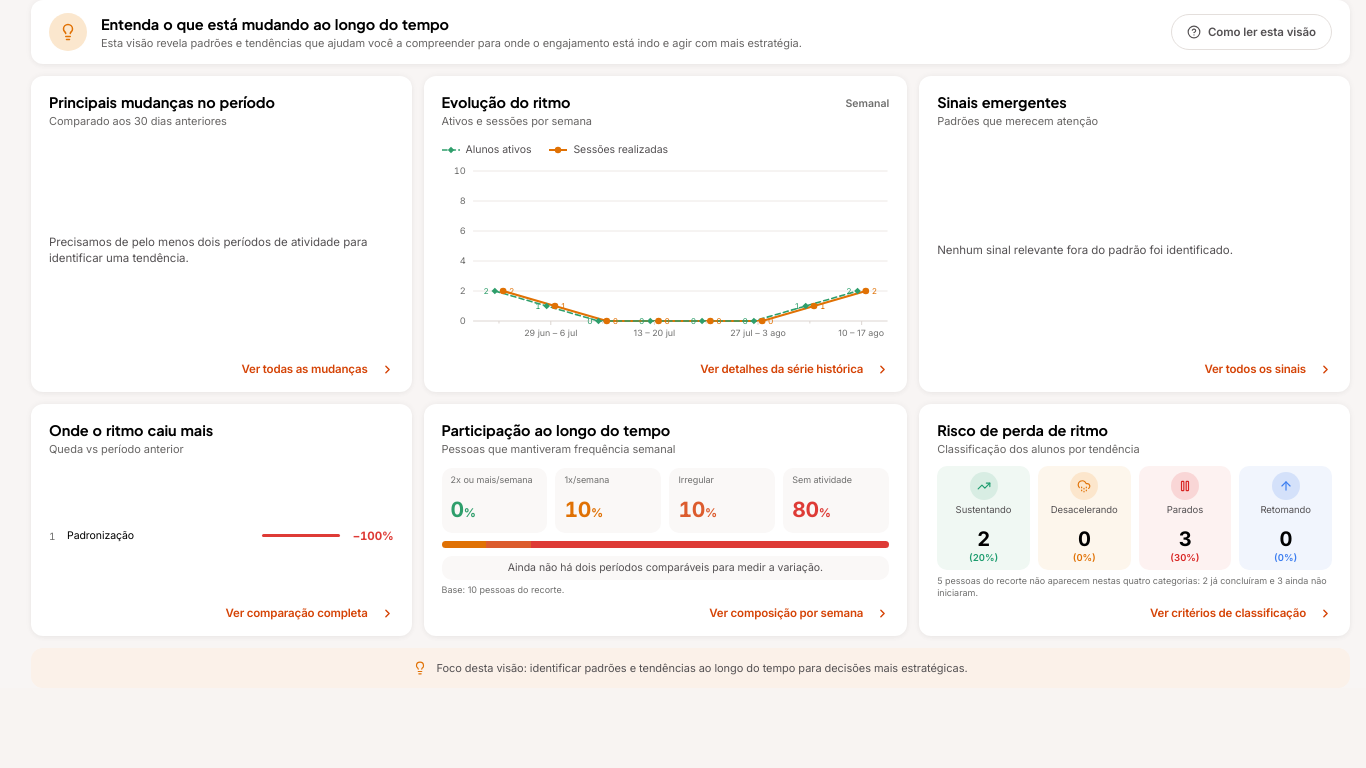
it: Padrões · a leitura assistida alcança o gestor com dado escasso › REGRESSÃO — e clicar nele traz a leitura assistida, com a régua da regra ao lado
Click the button "Ver todas as mudanças" at (318, 369), box [242,361,394,377]
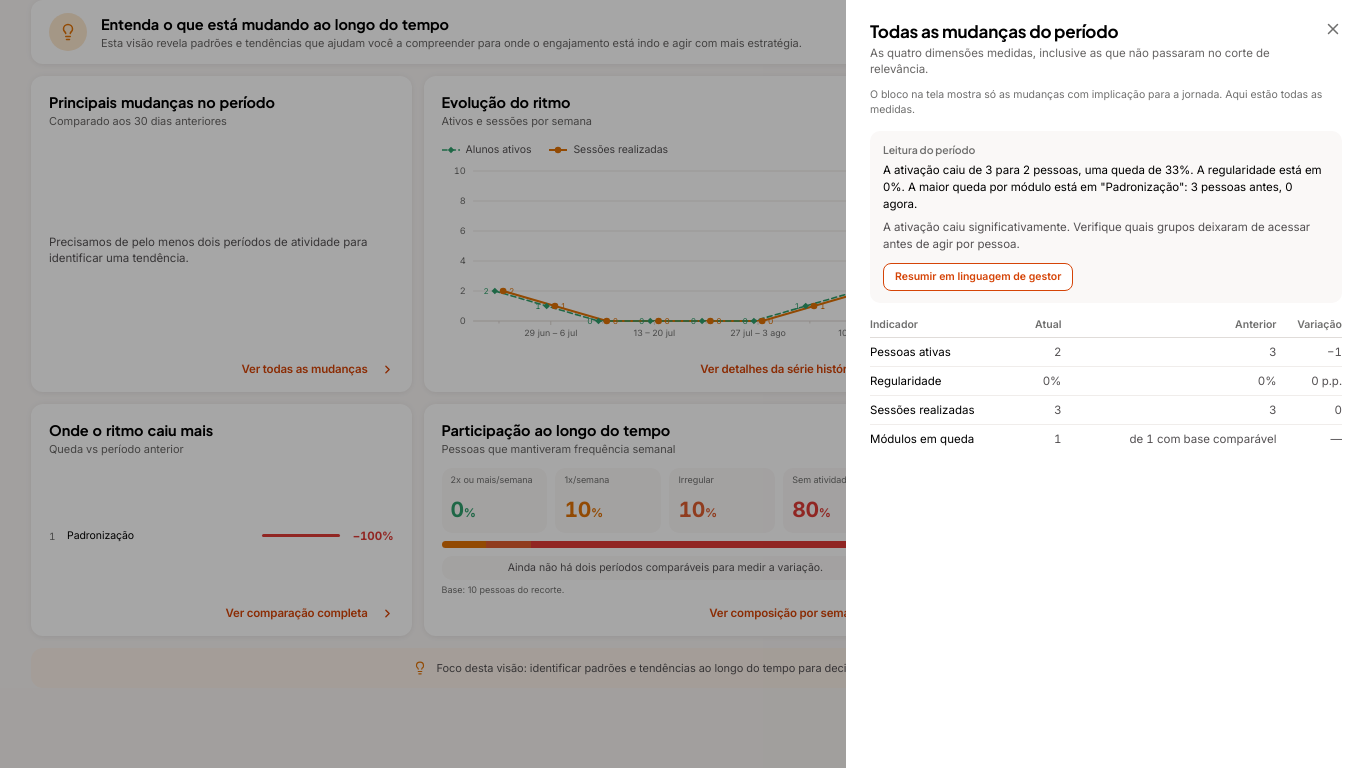
expect the heading "Leitura do período" is shown: met, box [883,143,976,156]
expect the button "Resumir em linguagem de gestor" is shown: met, box [883,263,1073,291]
